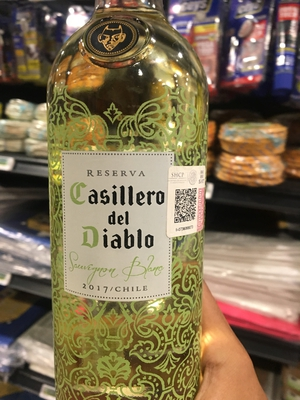casillero del diablo sauvignon blanc: (42, 10, 216, 400)
